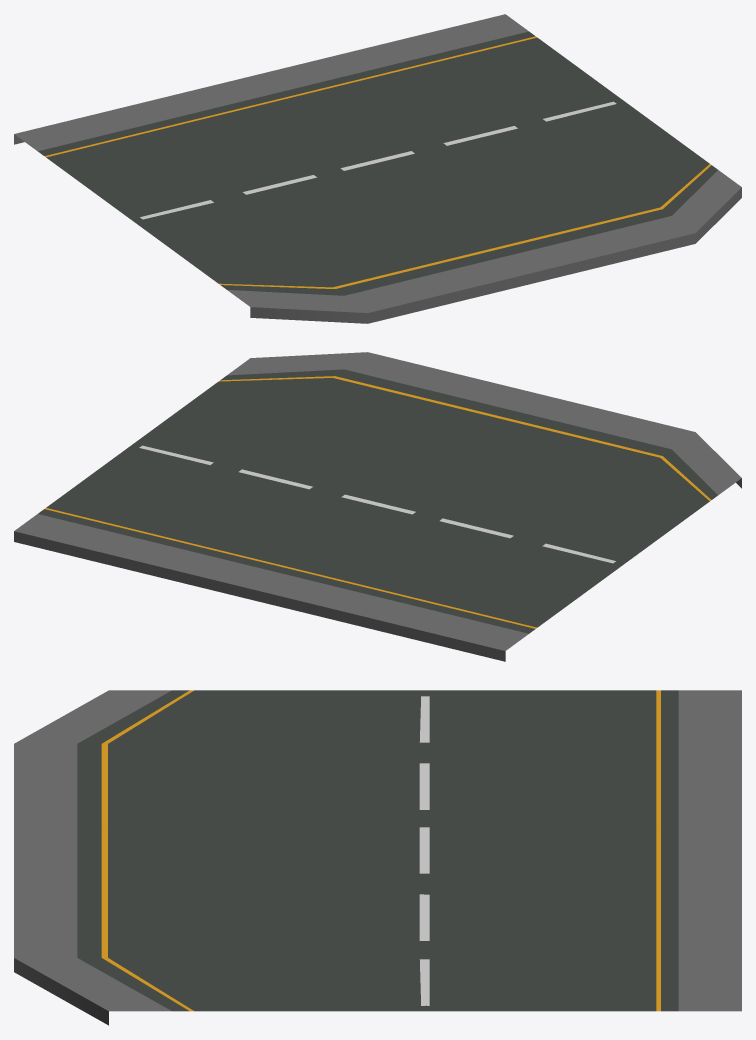
File: SM_Road_6.FBX
The picture shows the model from 3 angles, top to bottom: view 1: azimuth 30°, elevation 25°; view 2: azimuth 150°, elevation 25°; view 3: azimuth 270°, elevation 25°; orthographic projection. The views are drawn at different scales.
Parts seen in each view (by area): view 1: SM_Road_6; view 2: SM_Road_6; view 3: SM_Road_6.
Boxes of the visible parts, box(x1,y1,x2,y2) form: SM_Road_6: box(14, 14, 741, 323); SM_Road_6: box(14, 352, 741, 661); SM_Road_6: box(14, 690, 741, 1025).
Size of what is drawn, in the model's own units: 1200 by 1150 by 25.
